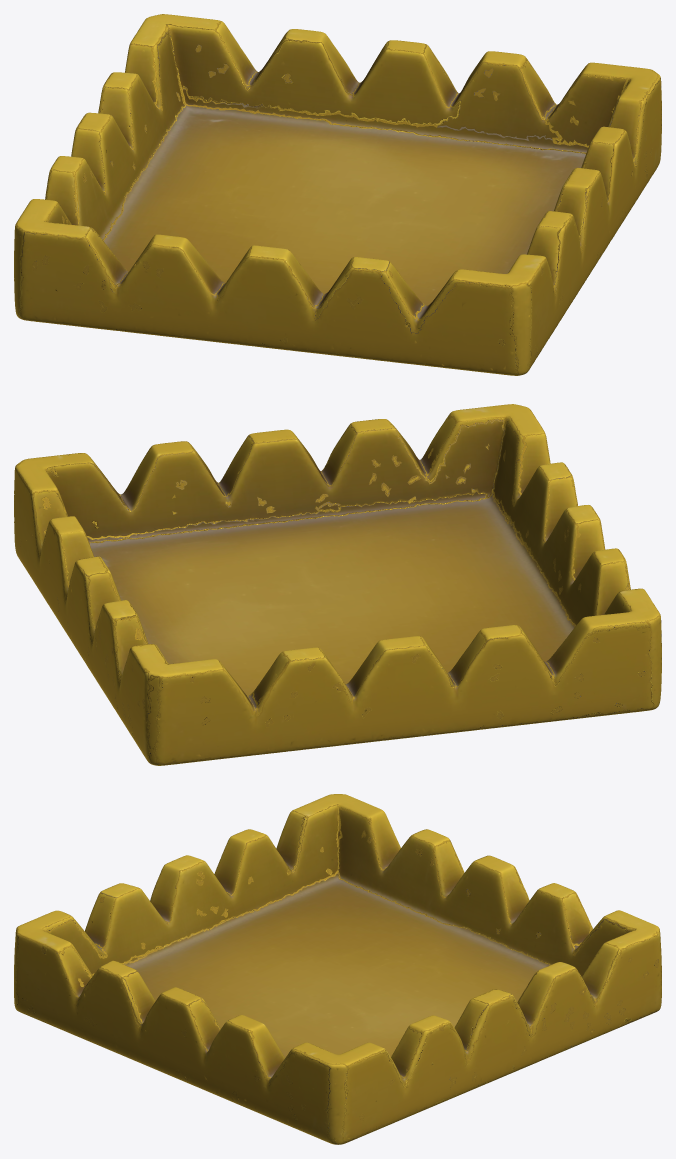
3 renders of one model, top to bottom at view 1: azimuth 30°, elevation 25°; view 2: azimuth 150°, elevation 25°; view 3: azimuth 270°, elevation 25°, orthographic. The views are drawn at different scales.
Size of the model in its own units: 1.99 by 0.2738 by 1.99.
Materials: 1 (1 with a texture image).
